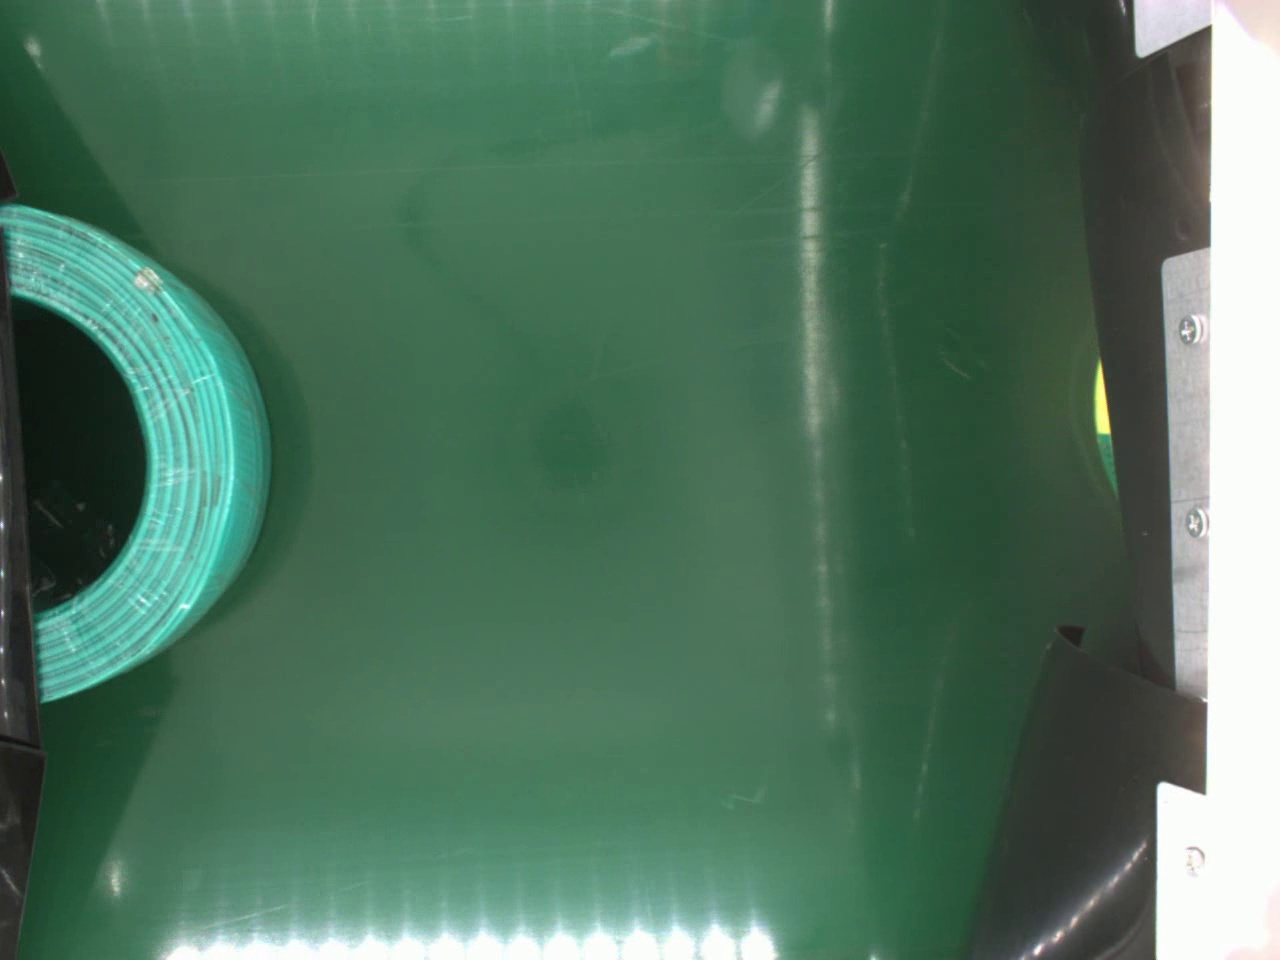green: (0, 196, 278, 702)
